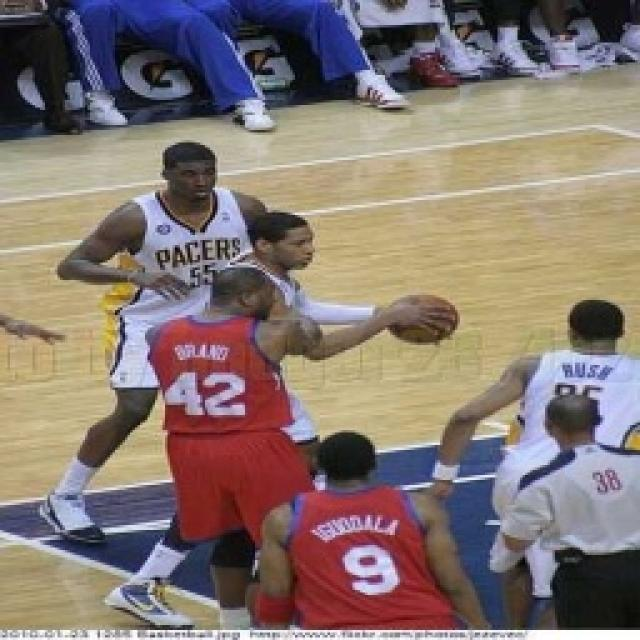rim: (390, 288, 460, 350)
